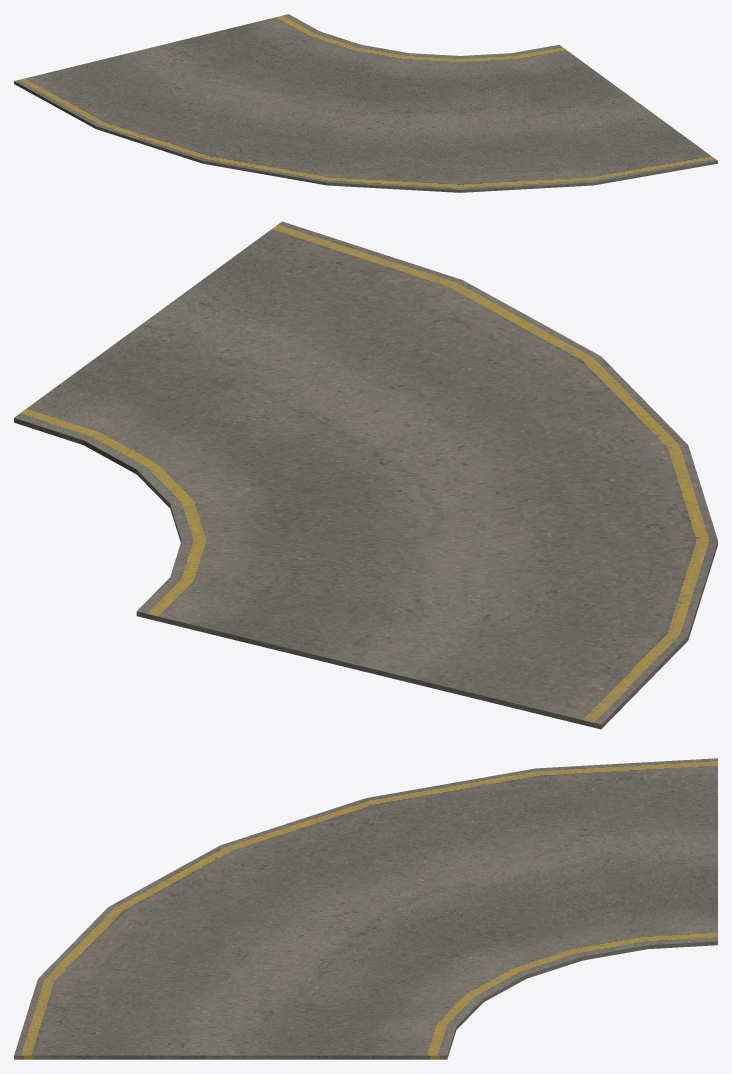
File: road_2_long_corner_no_sides.glb
3 renders of one model, top to bottom at view 1: azimuth 30°, elevation 25°; view 2: azimuth 150°, elevation 25°; view 3: azimuth 270°, elevation 25°, orthographic. The views are drawn at different scales.
Visible parts, largest first — view 1: road_2_long_corner_no_sides; view 2: road_2_long_corner_no_sides; view 3: road_2_long_corner_no_sides.
Part boxes in pixels (<box>): road_2_long_corner_no_sides: <box>14,14,717,192</box>; road_2_long_corner_no_sides: <box>14,221,717,729</box>; road_2_long_corner_no_sides: <box>14,758,717,1059</box>.
Size of the model in its own units: 26 by 0.16 by 26.
1 material, 1 textured.
